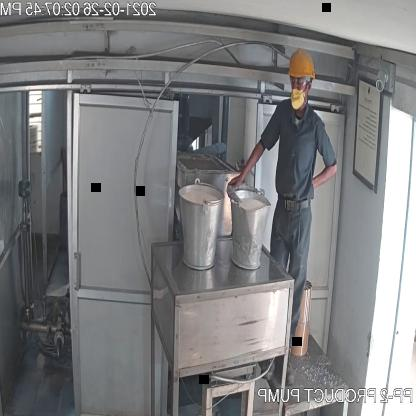helmet: (282, 46, 321, 87)
